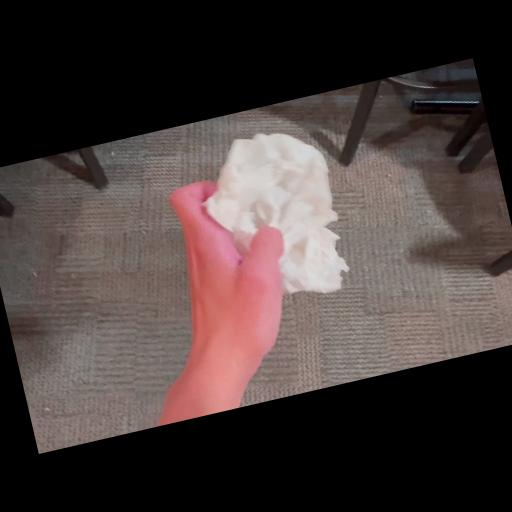napkin: (184, 116, 358, 320)
